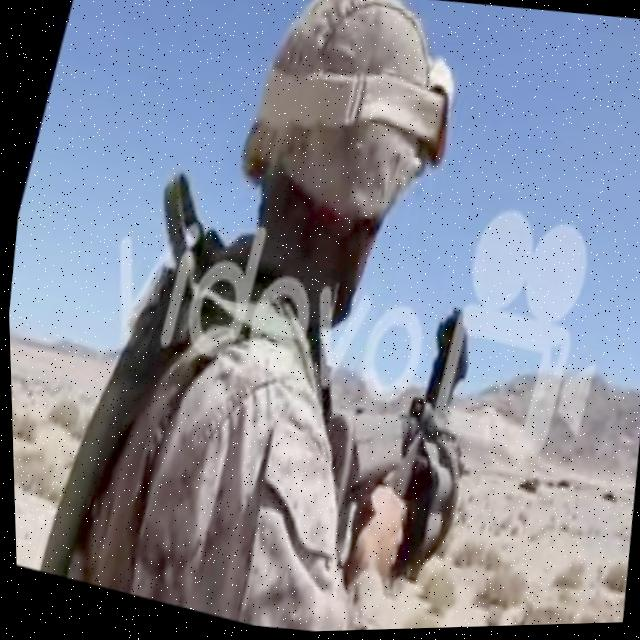rocket: (285, 271, 513, 603)
